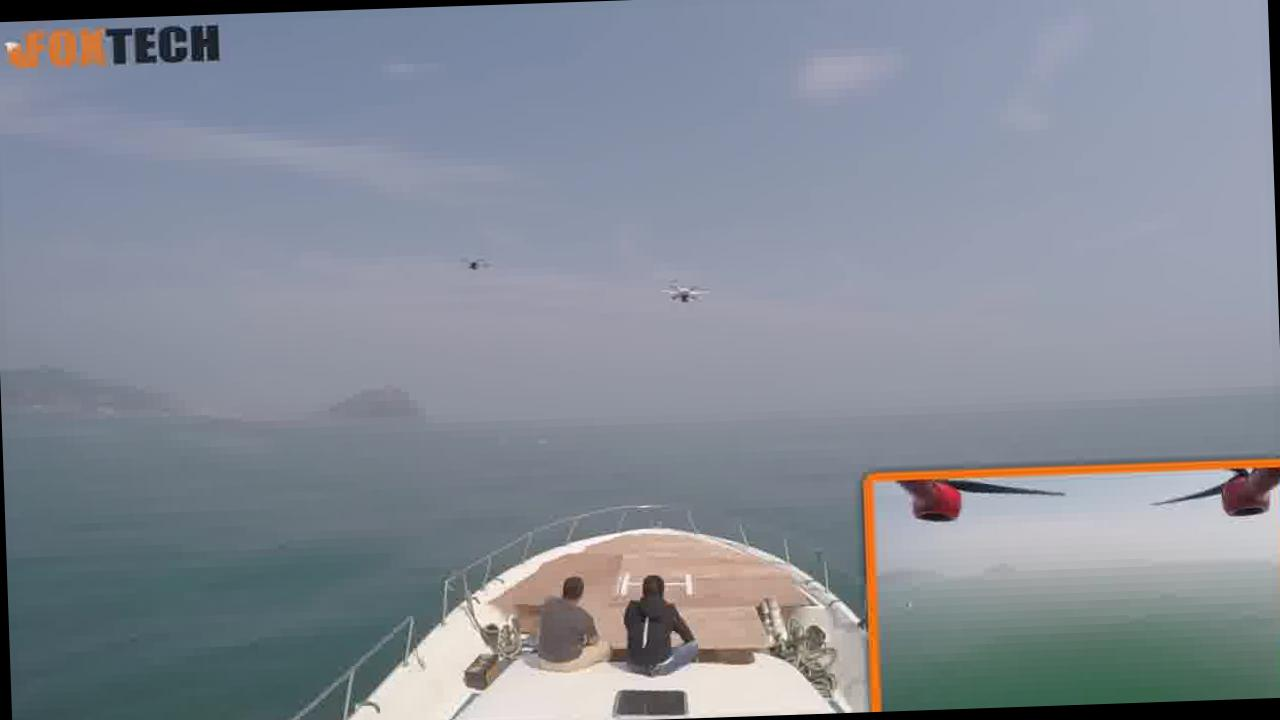drone: (650, 262, 716, 320)
